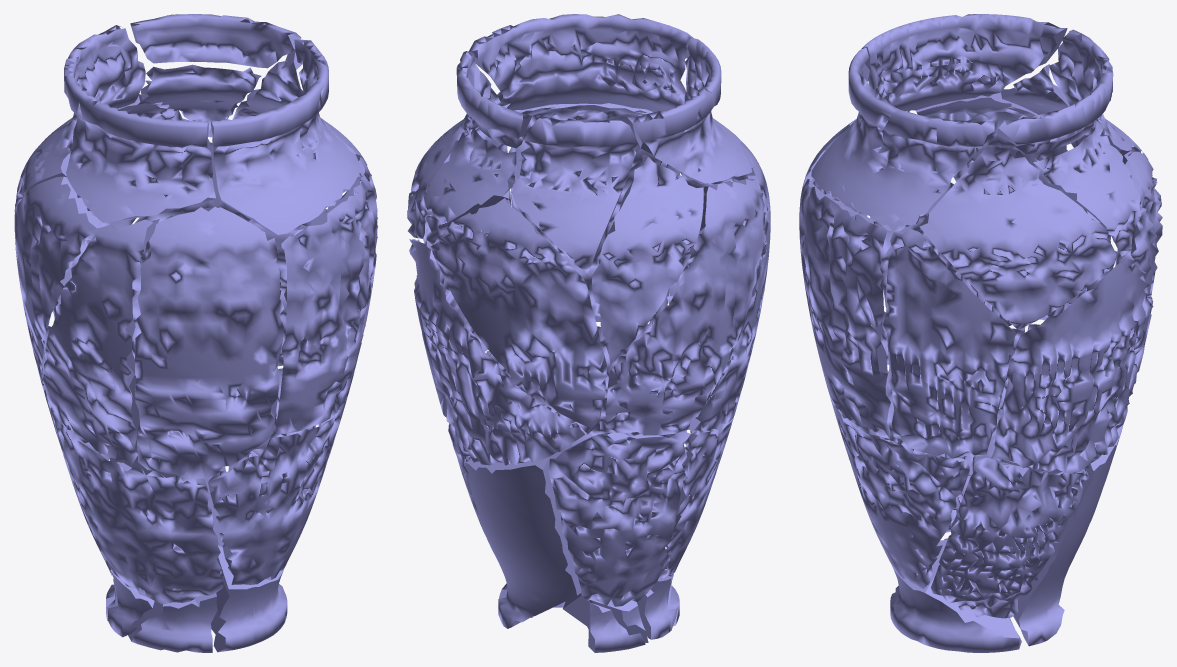
File: VaseBroken.fbx
3 renders of one model, left to right at view 1: azimuth 30°, elevation 25°; view 2: azimuth 150°, elevation 25°; view 3: azimuth 270°, elevation 25°, orthographic.
Visible parts, largest first — view 1: Vase_cell.013, Vase_cell.012, Vase_cell.007, Vase_cell.023, Vase_cell.006, Vase_cell.020, Vase_cell.004, Vase_cell.002, Vase_cell.018, Vase_cell.005, Vase_cell.015, Vase_cell.019 (+7 smaller); view 2: Vase_cell.010, Vase_cell.002, Vase_cell.014, Vase_cell.006, Vase_cell.024, Vase_cell.011, Vase_cell.019, Vase_cell.017, Vase_cell.020, Vase_cell.005, Vase_cell.007, Vase_cell.023 (+9 smaller); view 3: Vase_cell.024, Vase_cell.022, Vase_cell.016, Vase_cell.012, Vase_cell.003, Vase_cell.006, Vase_cell.020, Vase_cell.004, Vase_cell.005, Vase_cell.015, Vase_cell.017, Vase_cell.018 (+7 smaller).
Boxes of the visible parts, x1,y1,x2,y2 form: Vase_cell.013: (135,206,284,478); Vase_cell.012: (275,175,377,434); Vase_cell.007: (43,219,159,464); Vase_cell.023: (47,401,223,604); Vase_cell.006: (211,39,360,234); Vase_cell.020: (64,57,215,222); Vase_cell.004: (208,398,347,584); Vase_cell.002: (14,176,102,390); Vase_cell.018: (130,14,301,68); Vase_cell.005: (140,64,261,137); Vase_cell.015: (211,545,287,652); Vase_cell.019: (47,25,145,137); Vase_cell.010: (430,198,606,434); Vase_cell.002: (603,179,765,435); Vase_cell.014: (548,431,690,606); Vase_cell.006: (469,14,693,112); Vase_cell.024: (409,239,584,465); Vase_cell.011: (592,152,703,365); Vase_cell.019: (512,117,637,275); Vase_cell.017: (465,443,581,628); Vase_cell.020: (627,37,752,184); Vase_cell.005: (421,116,516,244); Vase_cell.007: (689,143,770,431); Vase_cell.023: (659,398,733,578); Vase_cell.024: (991,258,1153,472); Vase_cell.022: (883,226,1015,458); Vase_cell.016: (919,134,1116,329); Vase_cell.012: (799,179,892,439); Vase_cell.003: (931,457,1089,618); Vase_cell.006: (811,48,994,224); Vase_cell.020: (861,14,1067,110); Vase_cell.004: (828,391,969,588); Vase_cell.005: (1033,121,1140,256); Vase_cell.015: (890,540,1021,652); Vase_cell.017: (1002,425,1123,646); Vase_cell.018: (996,69,1113,153).
Bounding box in the file's own units: 21.81 × 36.2 × 21.81.
